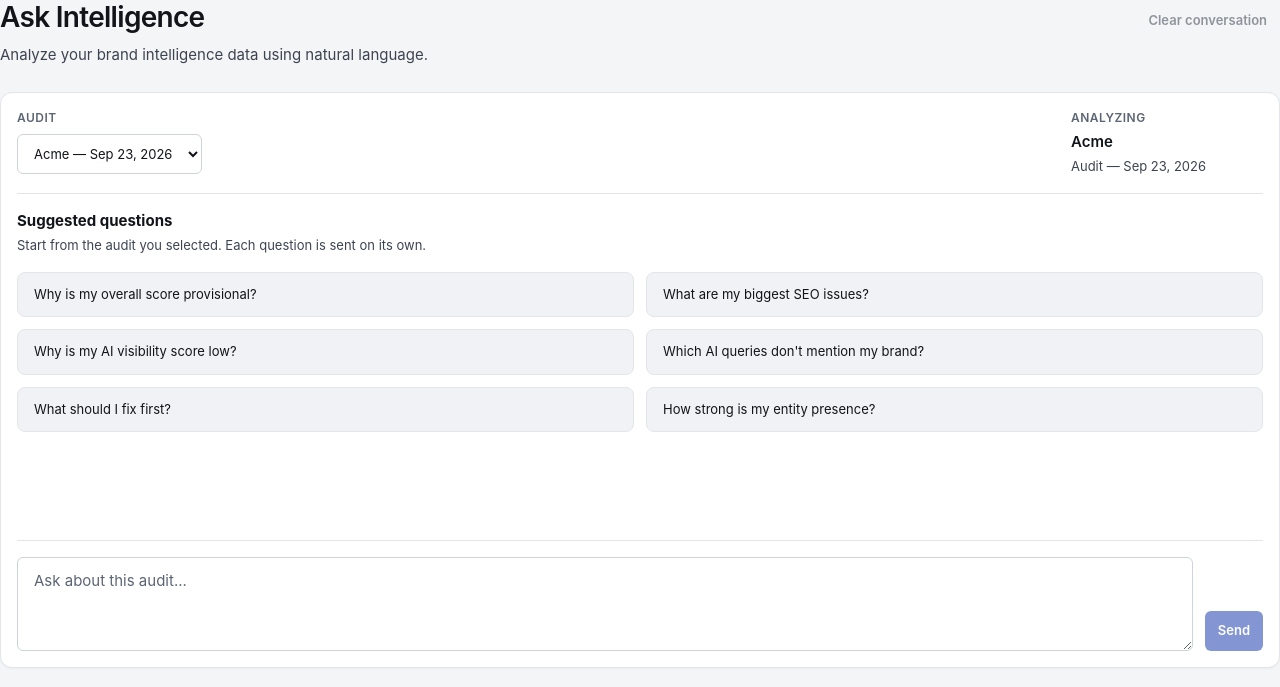
it: IntelligenceChatComponent › sends one suggested question and renders the answer with evidence
The width and height of the screenshot is (1280, 687).
Click the button with class "ask-suggestion" that starts with "Why is my AI visibility score low?". click: (135,351)
box: [17,329,634,375]
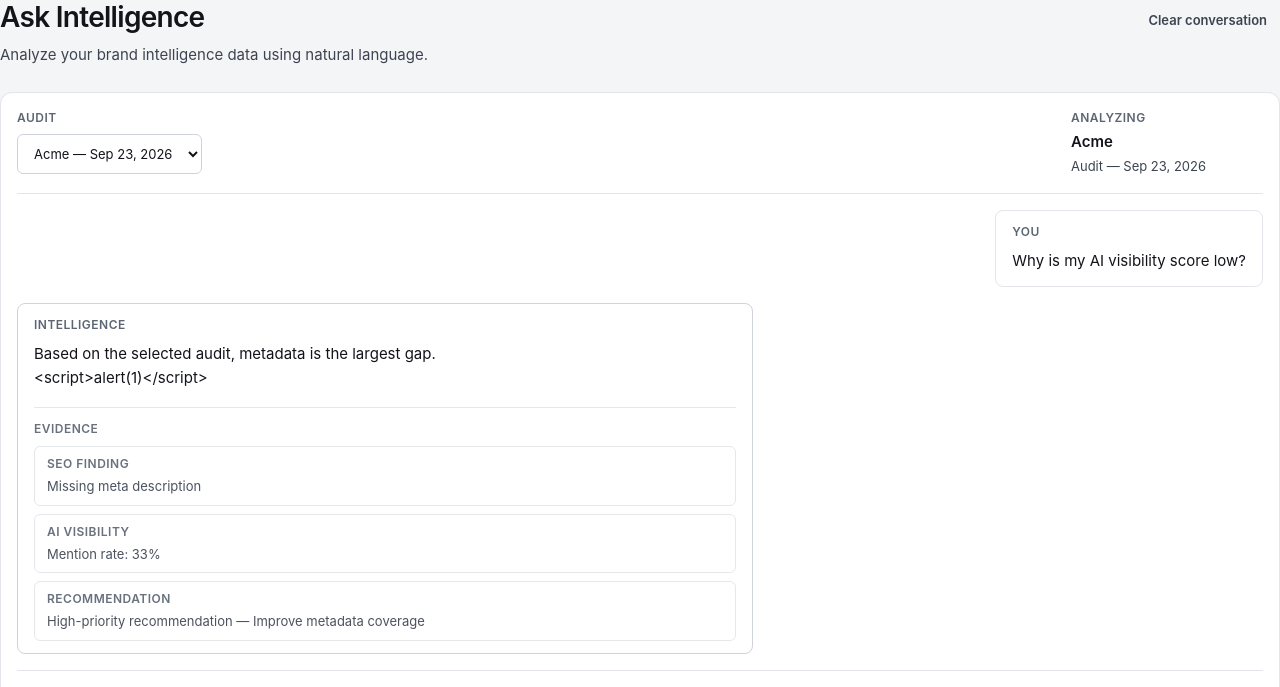
Result: the text "Based on the selected audit, metadata is the largest gap." is shown at [34,344,436,387]
Result: the text "SEO Finding" is shown at [47,456,129,471]
Result: the text "Missing meta description" is shown at [47,478,201,494]
